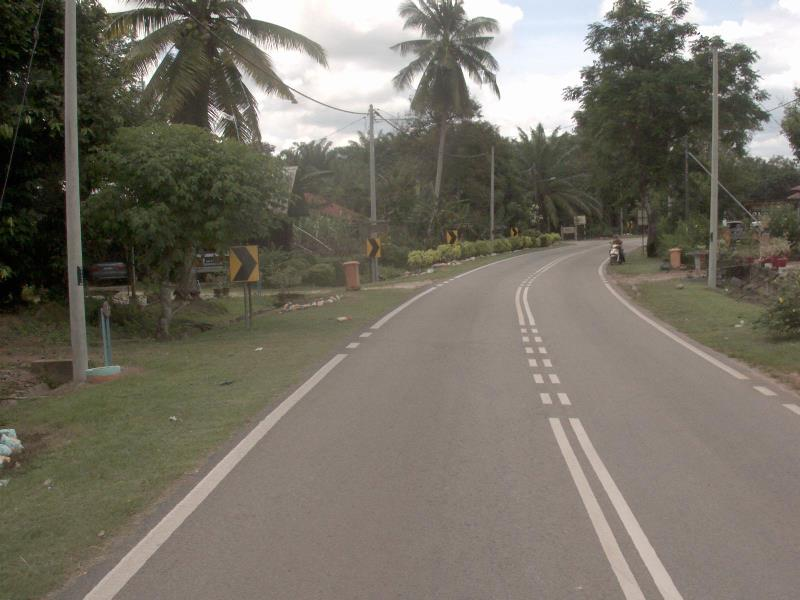traffic_sign: (225, 239, 267, 291)
